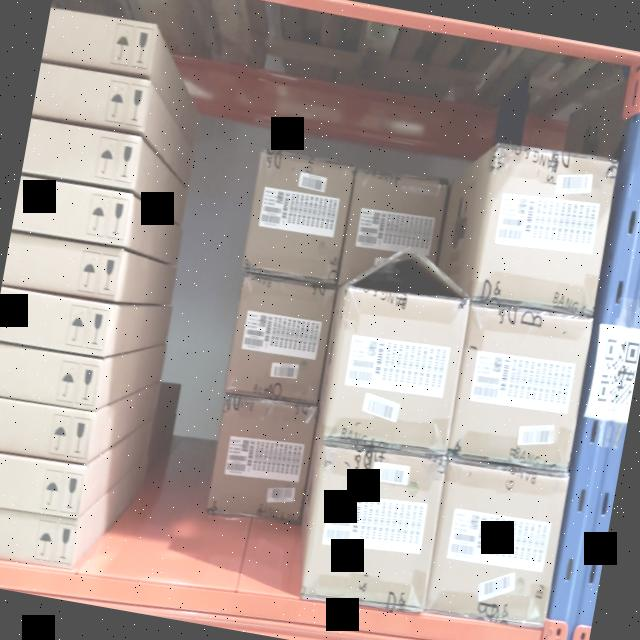box: (302, 438, 446, 616), (324, 282, 469, 456), (448, 300, 592, 468), (472, 149, 616, 311), (428, 460, 568, 624), (243, 153, 355, 283), (226, 276, 335, 406), (208, 394, 316, 522)
